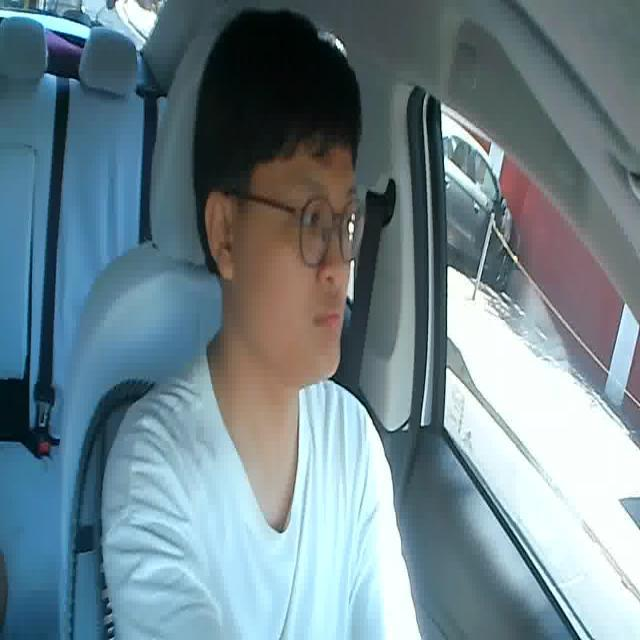Attentive: (198, 9, 361, 392)
Eye-Open: (297, 206, 324, 236), (337, 207, 356, 234)
Normal: (306, 302, 345, 342)
